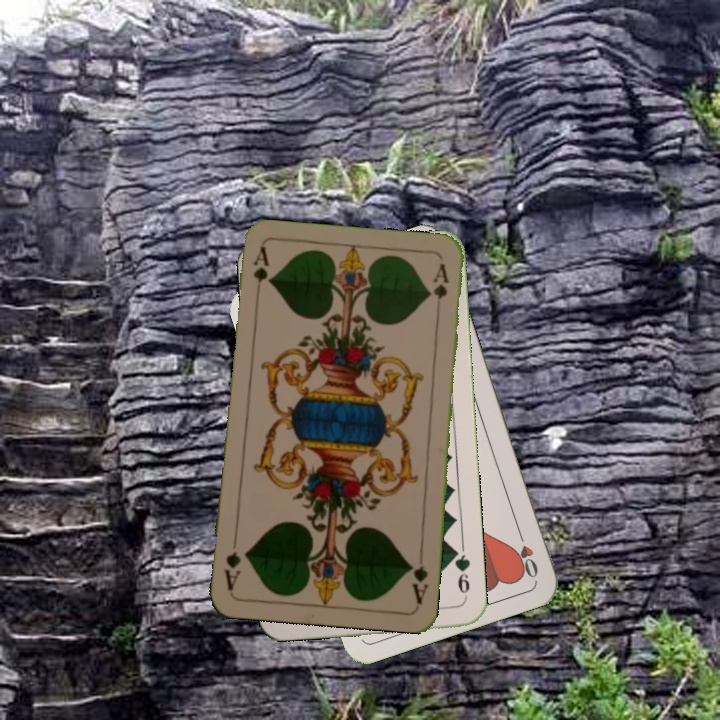G9: (448, 545, 473, 603)
GA: (405, 548, 431, 607), (249, 244, 271, 303)
HO: (512, 524, 541, 581)
